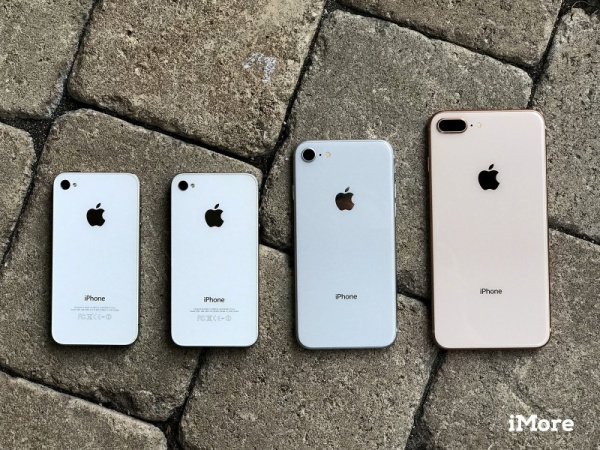apple: (466, 159, 514, 206), (326, 182, 363, 219), (199, 196, 231, 233), (80, 201, 122, 227)
